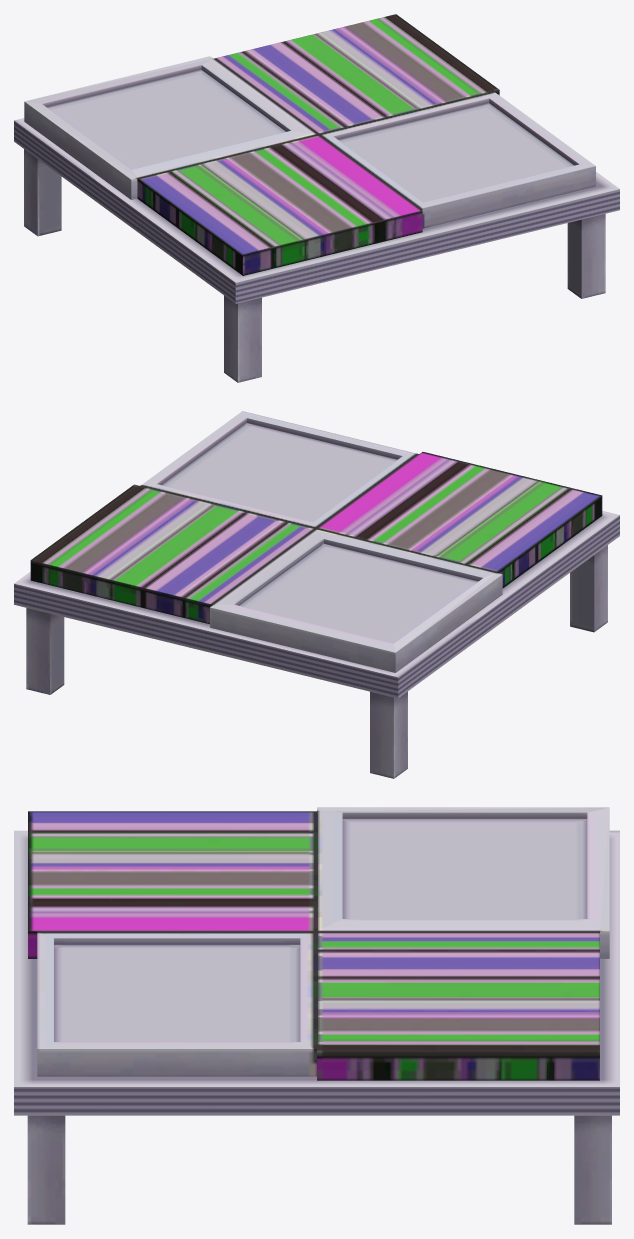
Rendered from furni_0200605_01.FBX.
3 renders of one model, top to bottom at view 1: azimuth 30°, elevation 25°; view 2: azimuth 150°, elevation 25°; view 3: azimuth 270°, elevation 25°, orthographic. The views are drawn at different scales.
Visible parts, largest first — view 1: furni_0200605_01; view 2: furni_0200605_01; view 3: furni_0200605_01.
Boxes of the visible parts, x1,y1,x2,y2 form: furni_0200605_01: (14,14,619,382); furni_0200605_01: (14,411,619,778); furni_0200605_01: (14,807,619,1224).
Bounding box in the file's own units: 160 × 50.36 × 160.
Materials: 1 (1 with a texture image).
